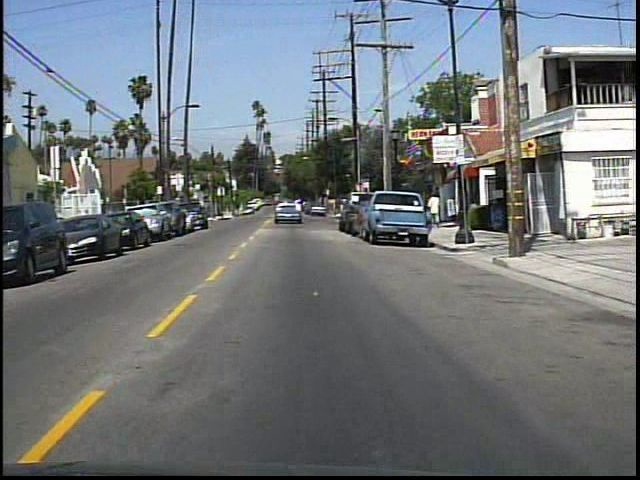person: (429, 190, 444, 230)
